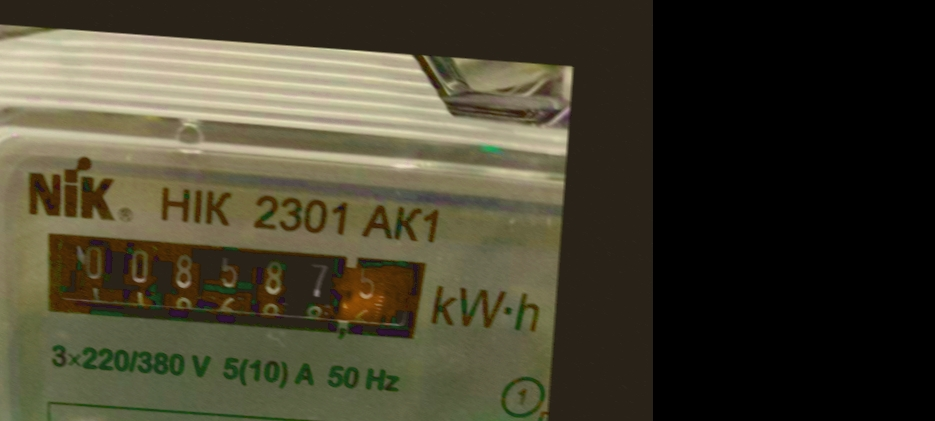0: (126, 244, 152, 286)
1: (80, 241, 107, 283)
5: (354, 262, 381, 303), (216, 252, 242, 291)
7: (305, 259, 331, 302)
8: (169, 249, 197, 292), (261, 256, 285, 298)
screen: (21, 212, 446, 361)
